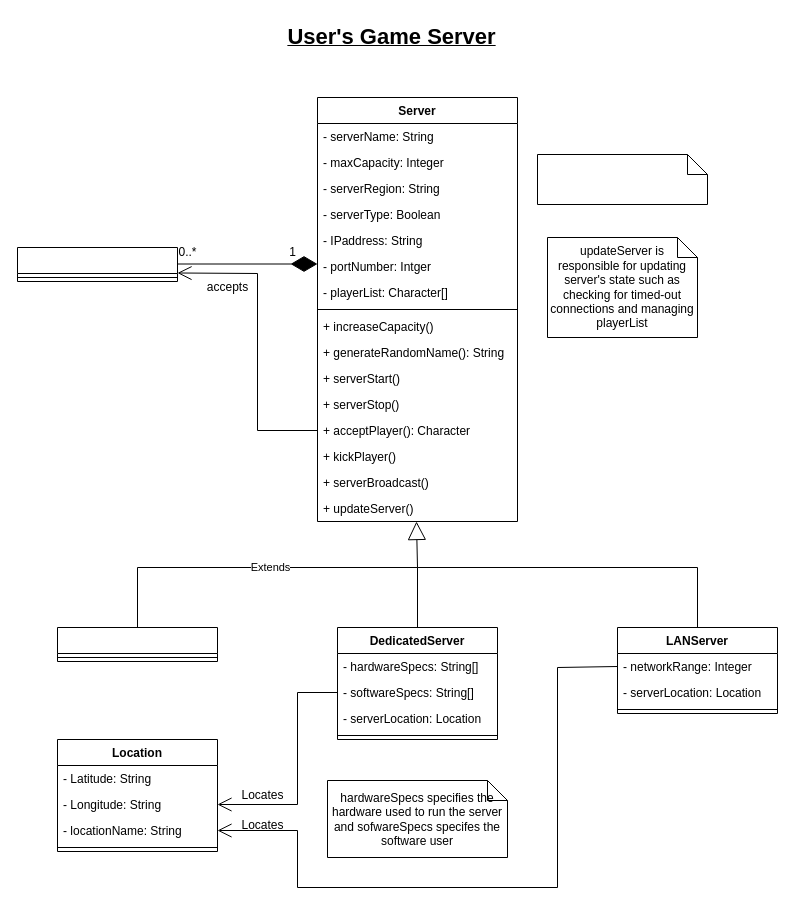
The diagram is 795 pixels wide and 919 high, and some of its shapes have lost their labels. Here are the shapes that lost their labels. From the top down, the centre of each, then its label:
the point at 622,179: serverType can be public or private
the point at 97,264: Character
the point at 137,644: Pier2PierServer
